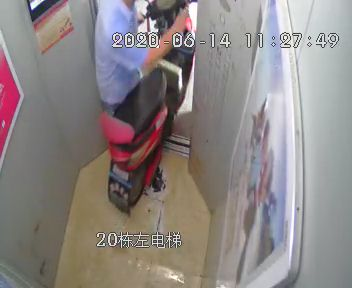Electric-bicycle: (102, 1, 194, 211)
